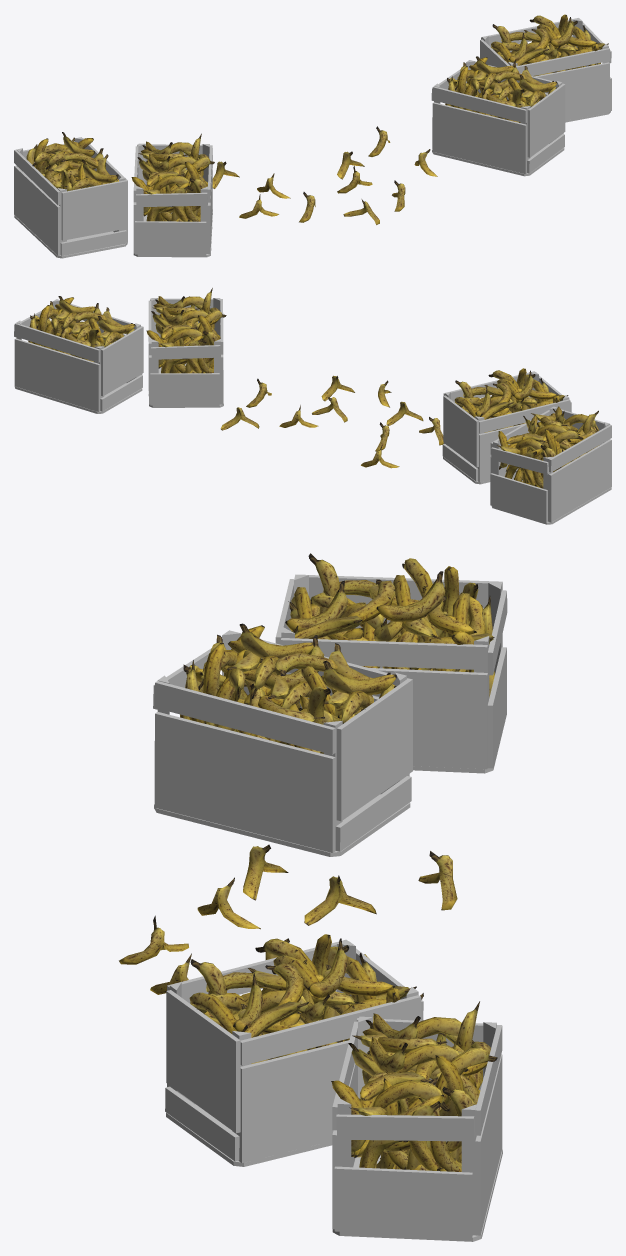
The model's file is BananaCrates.fbx.
The picture shows the model from 3 angles, top to bottom: view 1: azimuth 30°, elevation 25°; view 2: azimuth 150°, elevation 25°; view 3: azimuth 270°, elevation 25°; orthographic projection. The views are drawn at different scales.
Parts seen in each view (by area): view 1: BananaCrates; view 2: BananaCrates; view 3: BananaCrates.
Part boxes in pixels (box(x1,y1,x2,y2)): BananaCrates: box(14, 14, 611, 258); BananaCrates: box(14, 288, 611, 524); BananaCrates: box(119, 553, 507, 1241).
Bounding box in the file's own units: 8.16 × 1.21 × 2.48.
